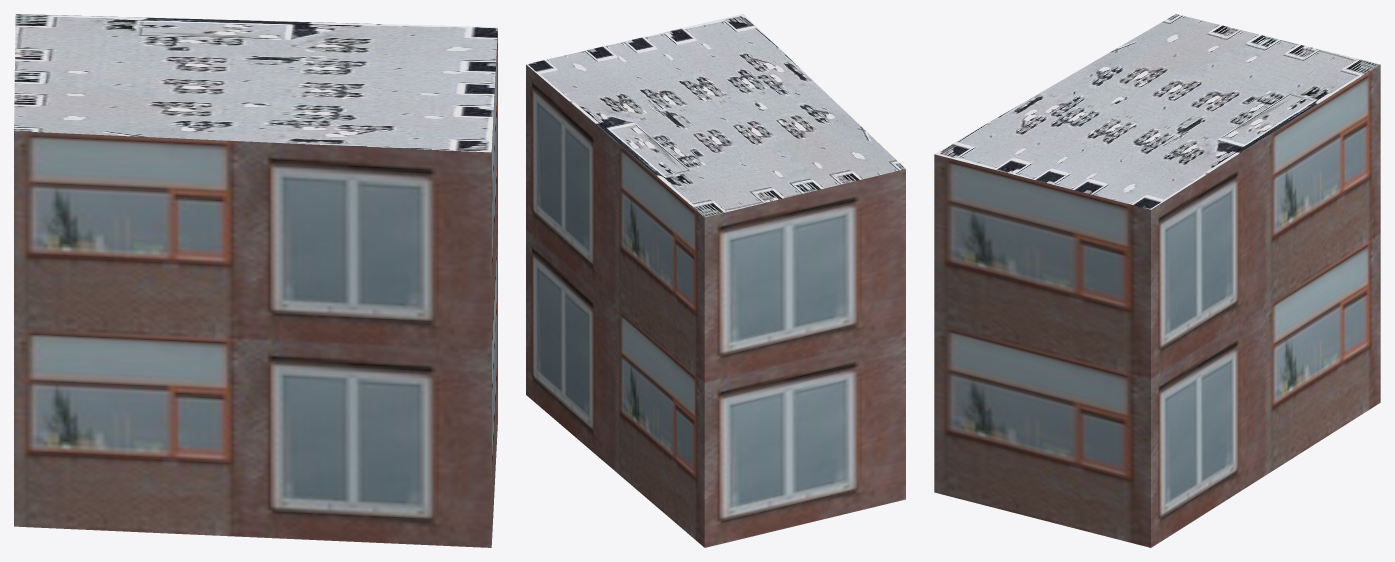
File: ResTex__4378.fbx
3 views of the same model, side by side, from view 1: azimuth 30°, elevation 25°; view 2: azimuth 150°, elevation 25°; view 3: azimuth 270°, elevation 25° (orthographic). The views are drawn at different scales.
Parts seen in each view (by area): view 1: CityEngineMaterial_19_m, CityEngineMaterial_15_m; view 2: CityEngineMaterial_19_m, CityEngineMaterial_15_m; view 3: CityEngineMaterial_19_m, CityEngineMaterial_15_m.
Part boxes in pixels (left/top/right/bottom): CityEngineMaterial_19_m: left=14, top=29, right=497, bottom=547; CityEngineMaterial_15_m: left=14, top=14, right=497, bottom=152; CityEngineMaterial_19_m: left=526, top=65, right=905, bottom=547; CityEngineMaterial_15_m: left=526, top=14, right=905, bottom=217; CityEngineMaterial_19_m: left=934, top=65, right=1380, bottom=547; CityEngineMaterial_15_m: left=935, top=14, right=1380, bottom=209.
Bounding box in the file's own units: 7.45 × 6 × 7.18.
Materials: 2 (2 with a texture image).
